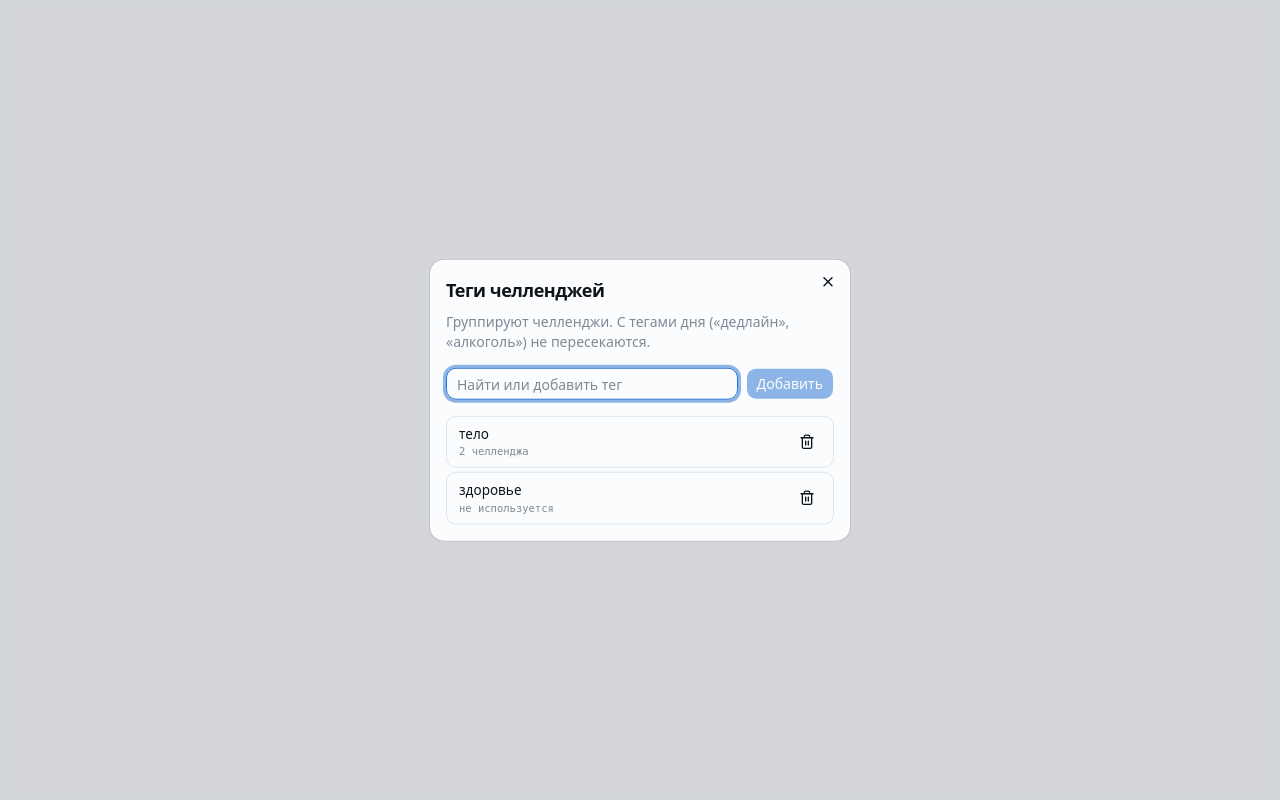
Test: окно тегов › поле ищет по списку — длинный список не надо листать
The image size is (1280, 800).
In the field named "новый тег": (592, 384) [446,368,738,400], type "здо"
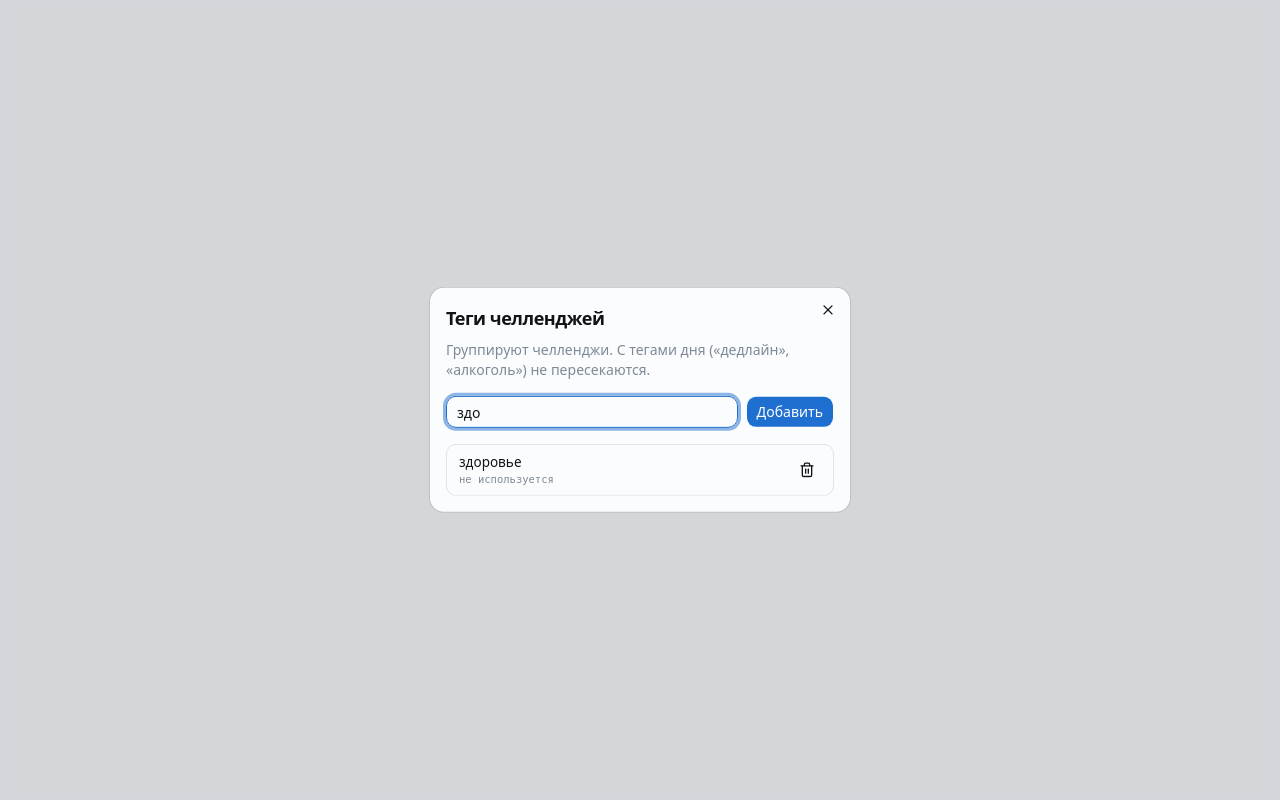
Expected: the text "здоровье" is shown, [459,453,522,471]
Expected: the text "тело" is gone
